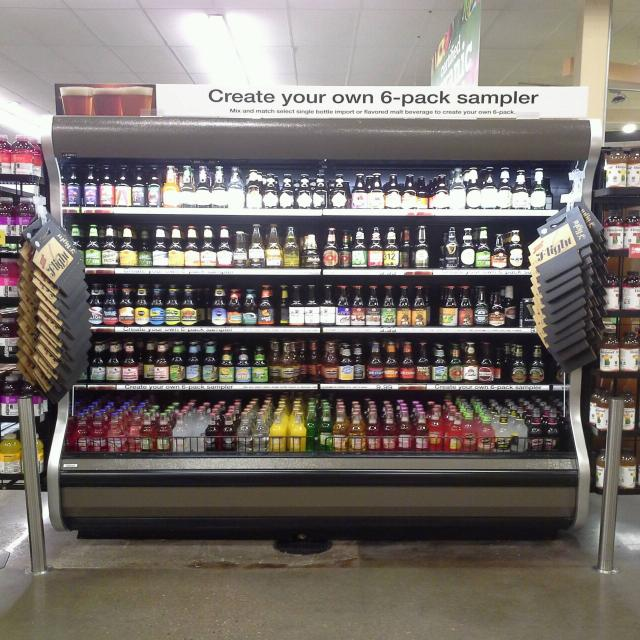empty: (429, 224, 449, 266)
